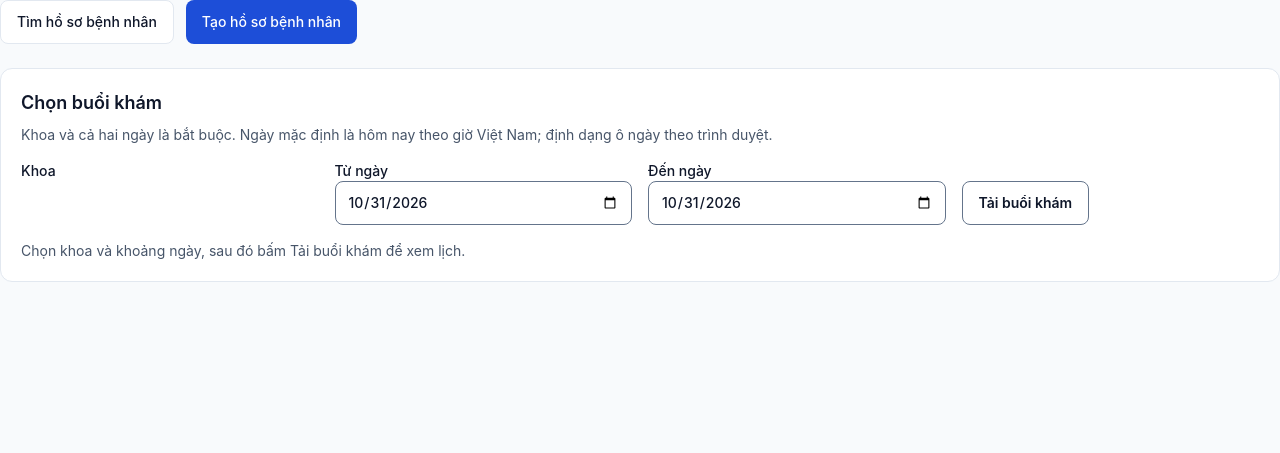
Test case: reception session registration › cannot select stale sessions while a replacement filter is loading or fails
The width and height of the screenshot is (1280, 453).
In the field labelled "Khoa": (165, 171) x1=56 y1=161 x2=275 y2=181, type "department-id"
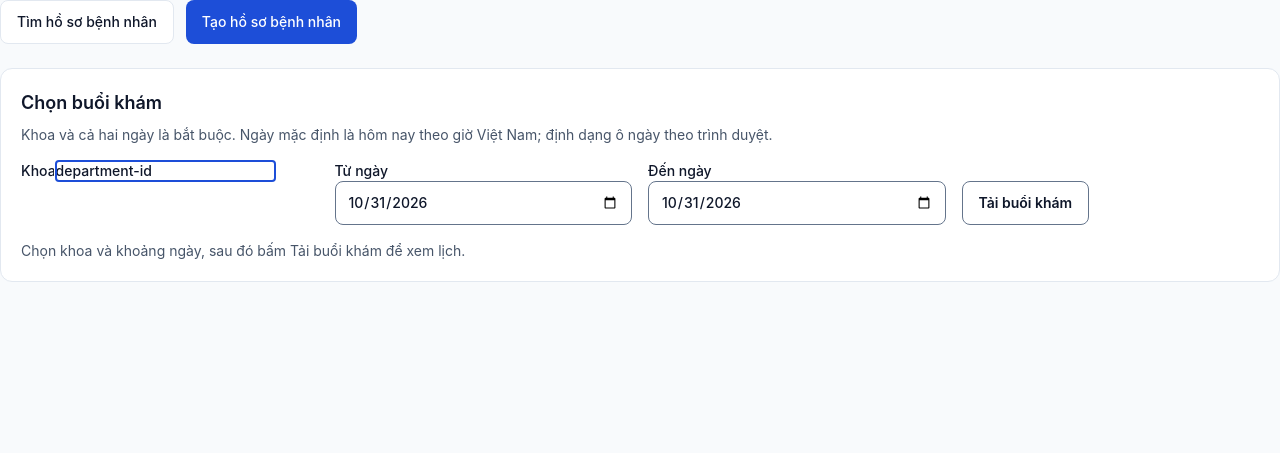
Click the button "Tải buổi khám": (1025, 203) x1=962 y1=181 x2=1089 y2=225
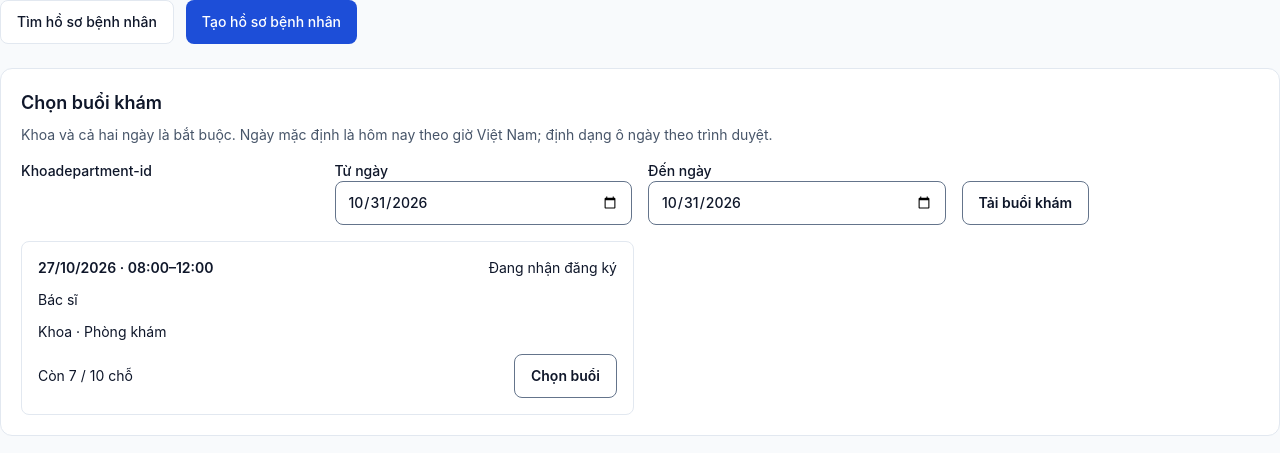
Now the button "Chọn buổi" is shown, box x1=514 y1=354 x2=617 y2=398
Click the button "Tải buổi khám": (1025, 203) x1=962 y1=181 x2=1089 y2=225
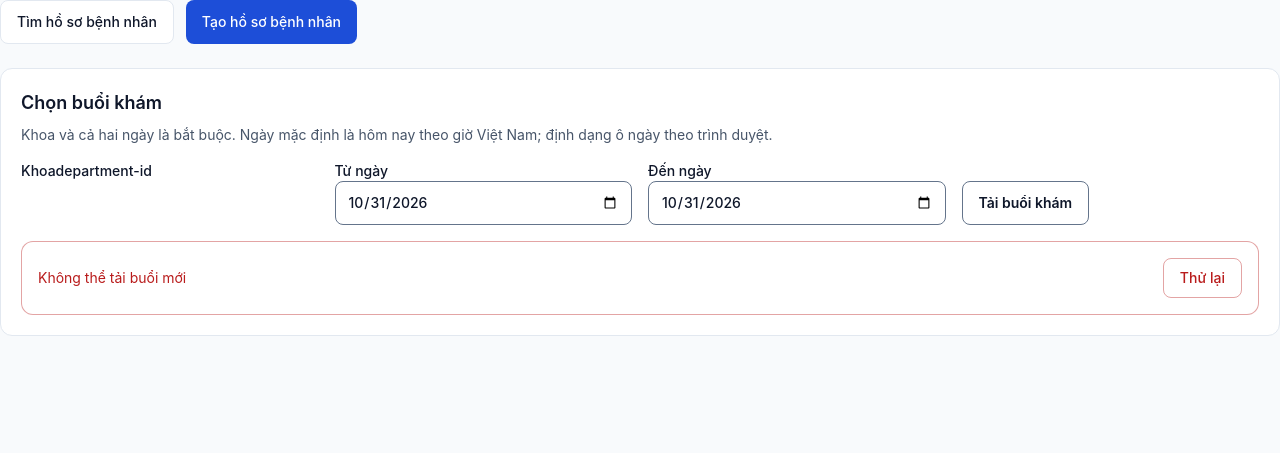
Now the message shows "Không thể tải buổi mới", box x1=38 y1=269 x2=186 y2=286
